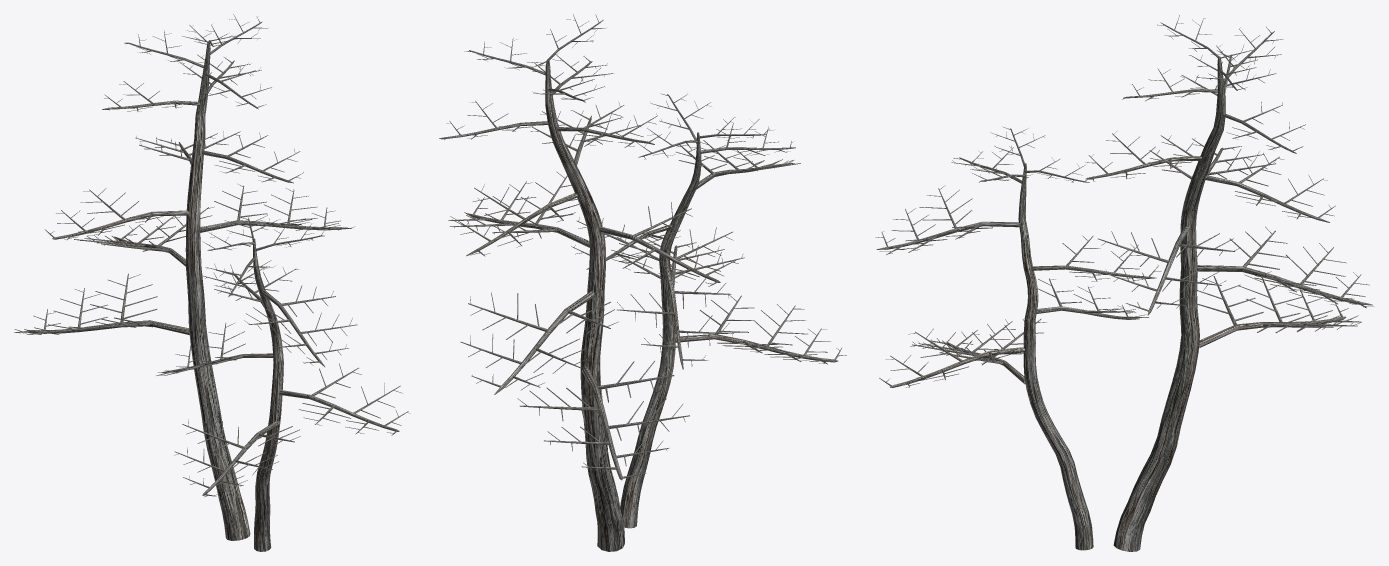
The picture shows the model from 3 angles, left to right: view 1: azimuth 30°, elevation 25°; view 2: azimuth 150°, elevation 25°; view 3: azimuth 270°, elevation 25°; orthographic projection. The views are drawn at different scales.
Visible parts, largest first — view 1: WGJ BlackPines_dup_2.Shape; view 2: WGJ BlackPines_dup_2.Shape; view 3: WGJ BlackPines_dup_2.Shape.
Boxes of the visible parts, left/top/right/bottom form: WGJ BlackPines_dup_2.Shape: left=14, top=14, right=410, bottom=551; WGJ BlackPines_dup_2.Shape: left=439, top=14, right=846, bottom=551; WGJ BlackPines_dup_2.Shape: left=875, top=15, right=1374, bottom=551.
Size of the model in its own units: 2.07 by 3.62 by 3.13.
Materials: 3 (1 with a texture image).
